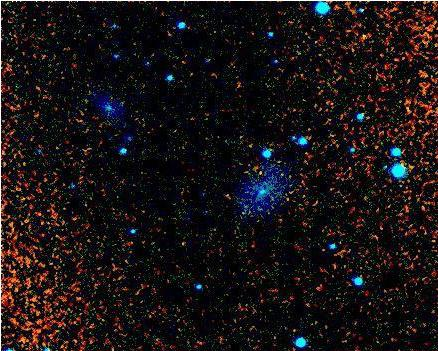star: (353, 19, 383, 49)
